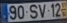0: (17, 5, 25, 20)
1: (50, 3, 55, 18)
2: (54, 2, 61, 17)
9: (9, 4, 17, 20)
S: (29, 4, 38, 19)
V: (37, 3, 46, 18)
